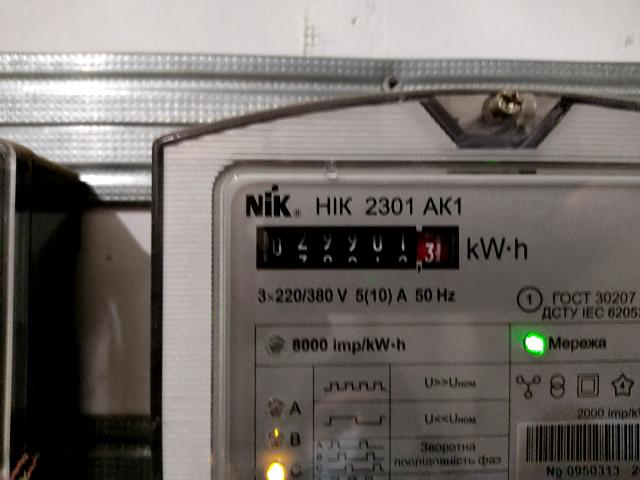0: (370, 229, 385, 254), (269, 235, 284, 257)
1: (397, 229, 409, 253)
2: (295, 230, 310, 252)
3: (422, 241, 437, 264)
9: (346, 231, 358, 254), (321, 230, 333, 251)
screen: (248, 218, 469, 280)
